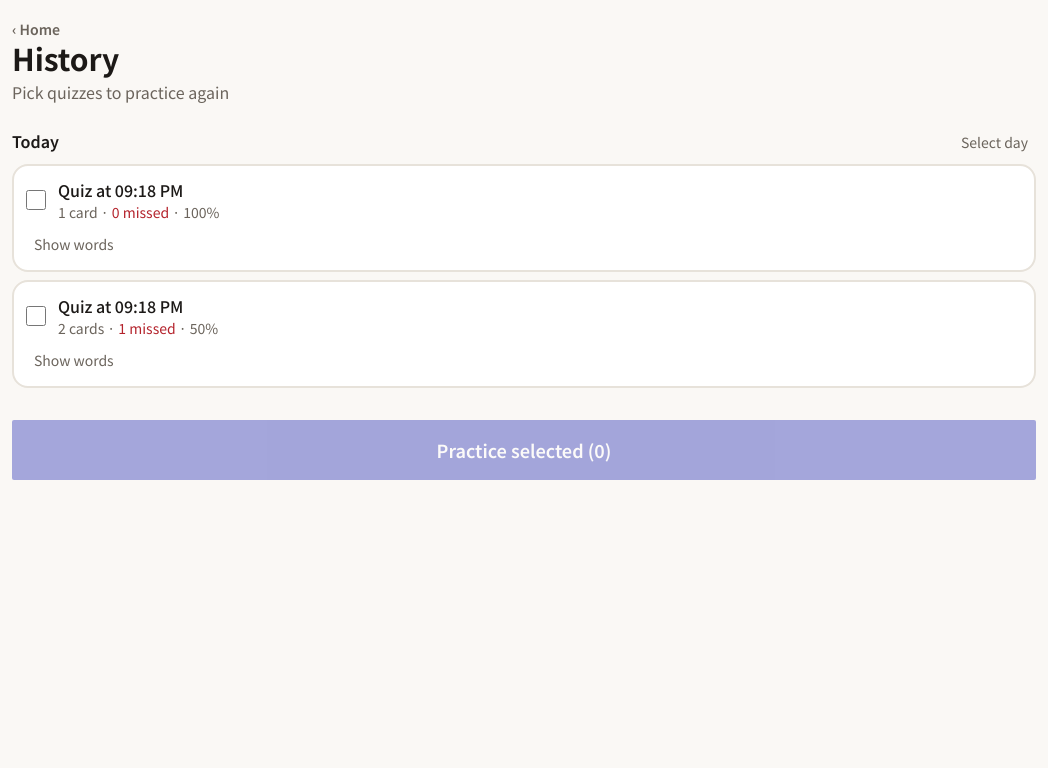
it: History › selects a whole day and lists a quiz's words
Click the button "Select day": click(994, 142) [953, 128, 1036, 156]
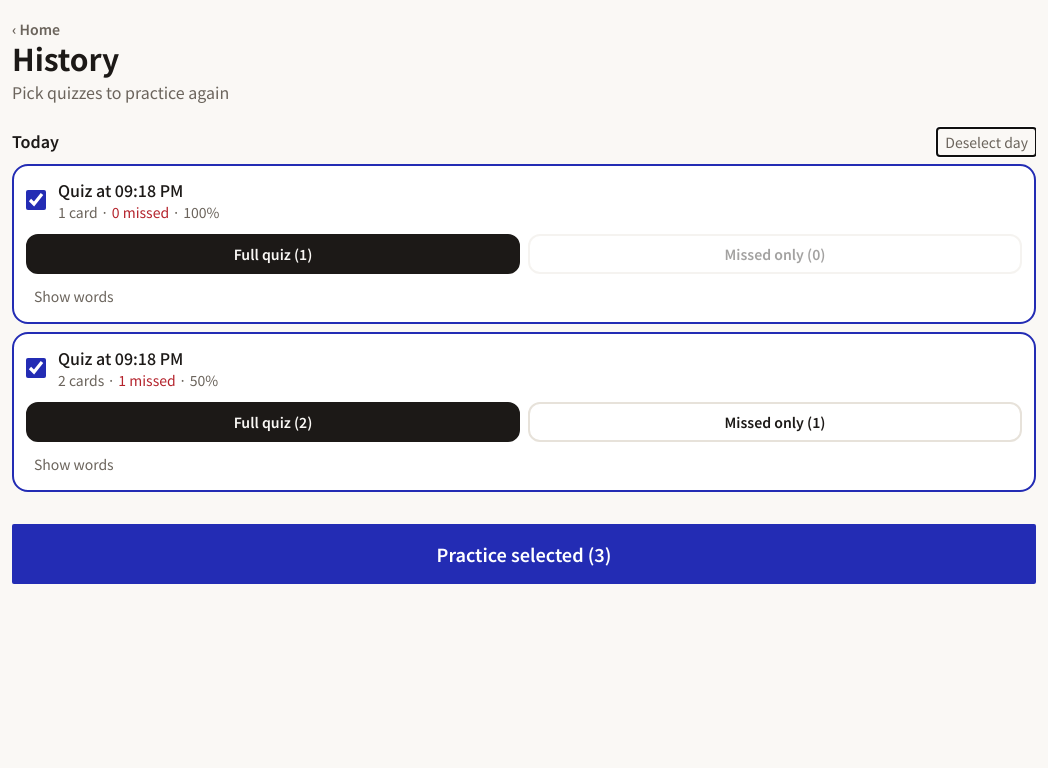
Expected: the checkbox labelled "Quiz at 09:18 PM 1 card · 0 missed · 100%" is checked, [26, 190, 46, 210]
Expected: the checkbox labelled "Quiz at 09:18 PM 2 cards · 1 missed · 50%" is checked, [26, 358, 46, 378]
Expected: the button "Practice selected (3)" is shown, [12, 524, 1036, 584]
Click the button "Deselect day": click(987, 142) [937, 128, 1036, 156]
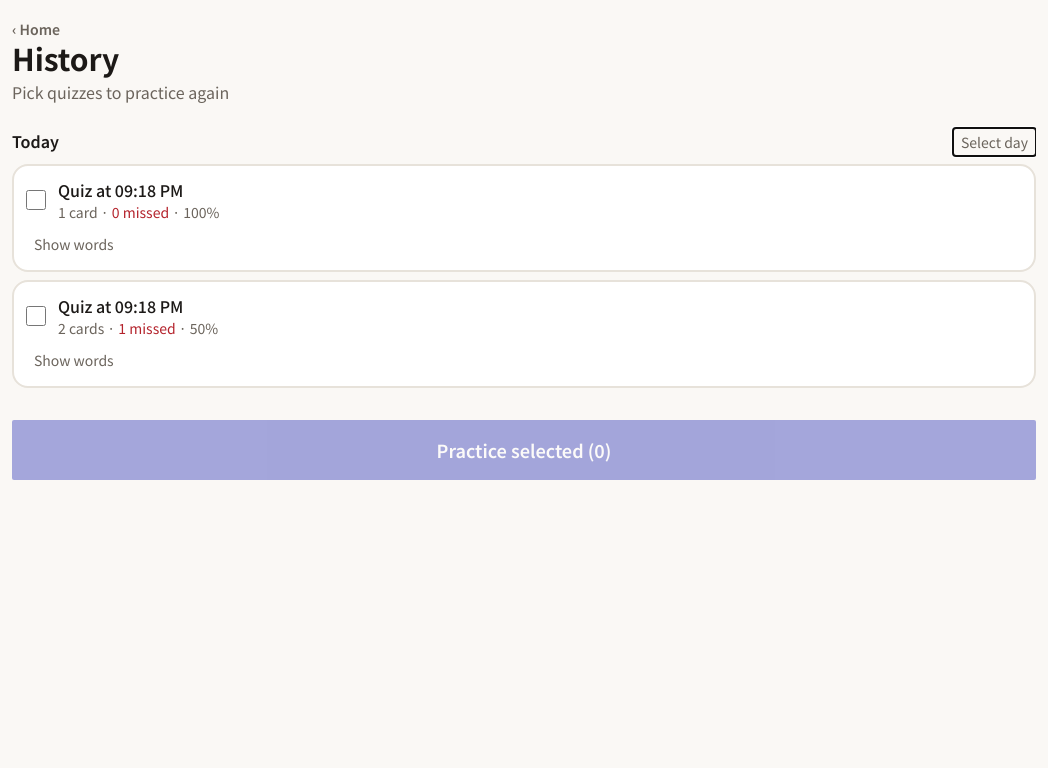
Expected: the checkbox labelled "Quiz at 09:18 PM 1 card · 0 missed · 100%" is not checked, [26, 190, 46, 210]
Expected: the checkbox labelled "Quiz at 09:18 PM 2 cards · 1 missed · 50%" is not checked, [26, 306, 46, 326]
Click the button "Show words" below "cards": click(74, 360) [26, 346, 122, 374]
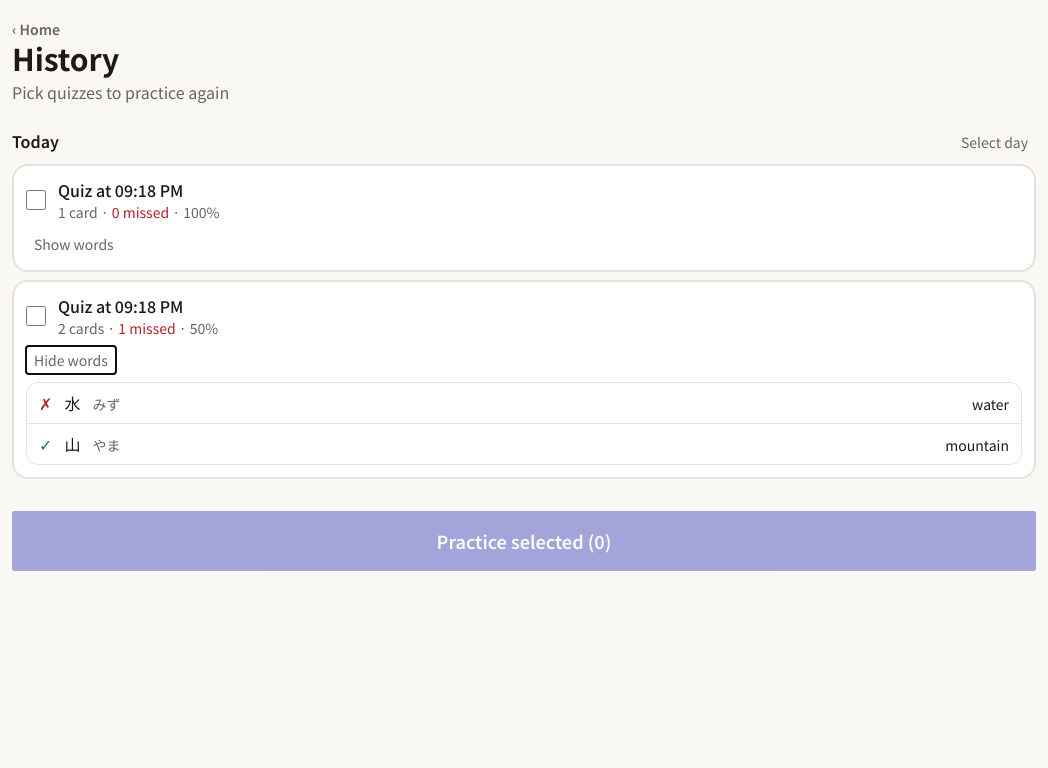
Expected: the text "水" is shown, [64, 391, 80, 415]
Expected: the text named "missed" is shown, [39, 391, 52, 415]
Expected: the text "mountain" is shown, [945, 435, 1009, 455]
